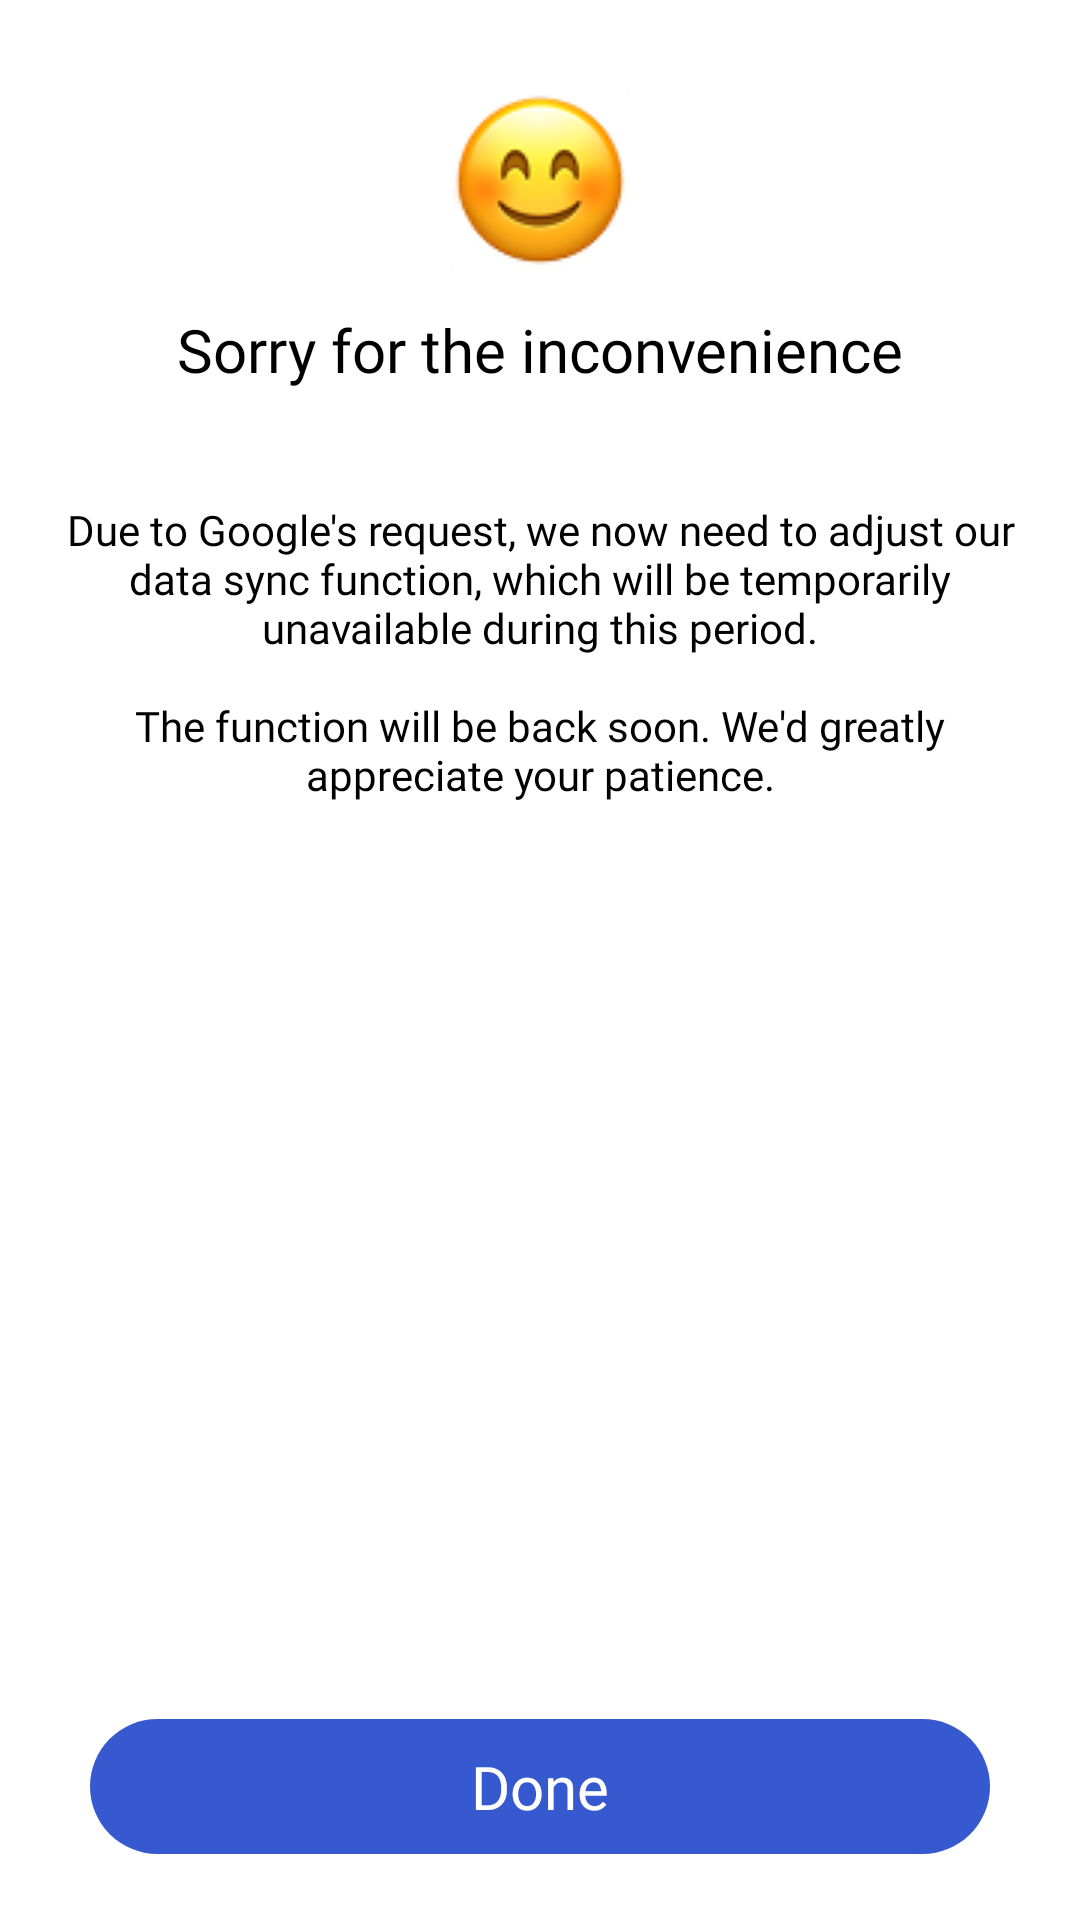

Locate icon controls on the screen. Image size 1080px x 1920px, boxes as rect(x1, y1, x2, y2).
smile: rect(455, 96, 625, 264)
